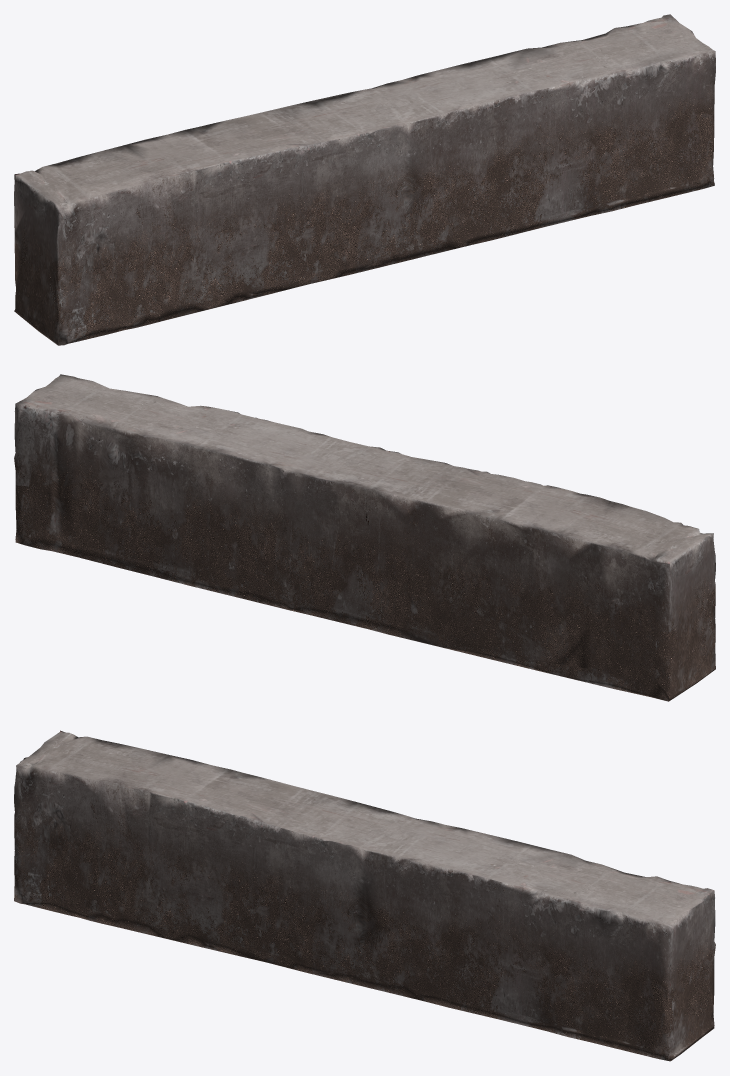
Rendered from SM_Skirting01.FBX.
3 views of the same model, one above another, from view 1: azimuth 30°, elevation 25°; view 2: azimuth 150°, elevation 25°; view 3: azimuth 330°, elevation 25° (orthographic).
Parts seen in each view (by area): view 1: SM_Skirting01_LOD0; view 2: SM_Skirting01_LOD0; view 3: SM_Skirting01_LOD0.
Boxes of the visible parts, <box> form: SM_Skirting01_LOD0: <box>14,14,715,345</box>; SM_Skirting01_LOD0: <box>14,374,715,701</box>; SM_Skirting01_LOD0: <box>14,730,715,1061</box>.
Bounding box in the file's own units: 119 × 14.99 × 24.98.
